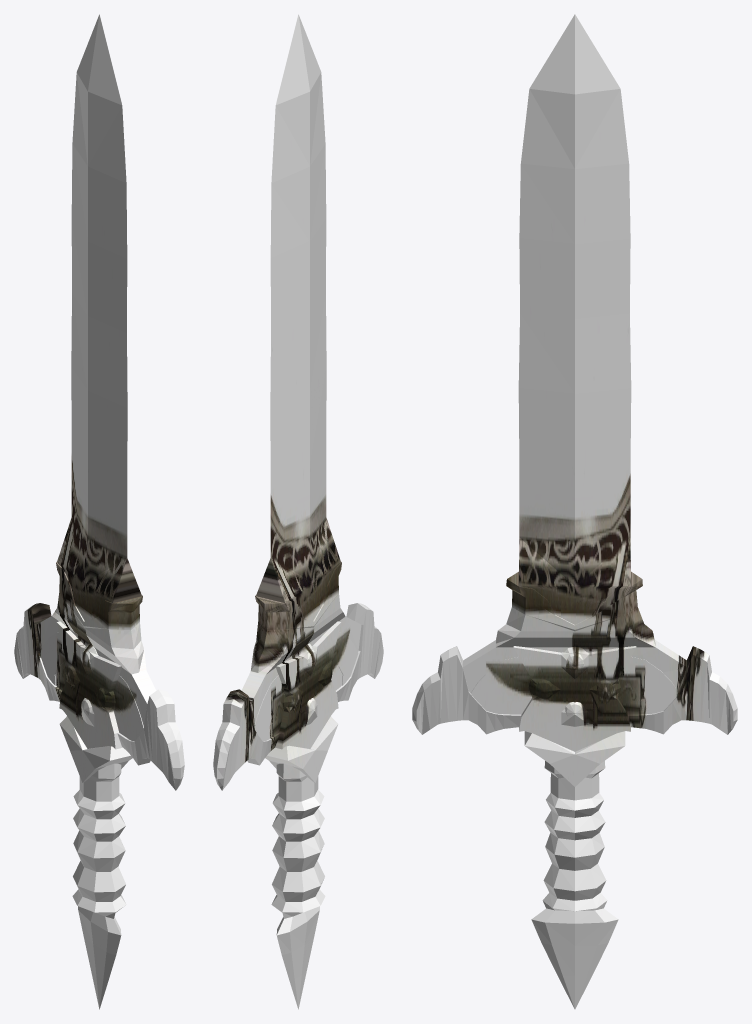
Rendered from excalibur_ea1580fb.glb.
The picture shows the model from 3 angles, left to right: view 1: azimuth 30°, elevation 25°; view 2: azimuth 150°, elevation 25°; view 3: azimuth 270°, elevation 25°; orthographic projection.
Size of the model in its own units: 0.0843 by 1.81 by 0.5361.
Materials: 1 (1 with a texture image).
